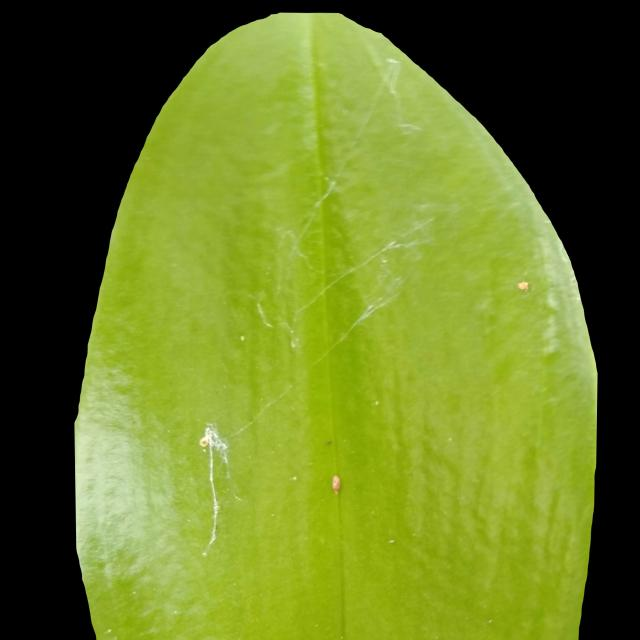mite: (192, 417, 348, 557), (322, 435, 344, 496), (197, 424, 228, 454), (508, 271, 537, 299), (319, 433, 339, 452), (234, 329, 249, 346), (383, 533, 399, 548), (198, 435, 210, 449), (288, 473, 298, 483), (386, 536, 397, 545), (237, 332, 246, 343), (324, 438, 334, 447), (371, 398, 381, 407)
spots: (72, 12, 599, 638)
